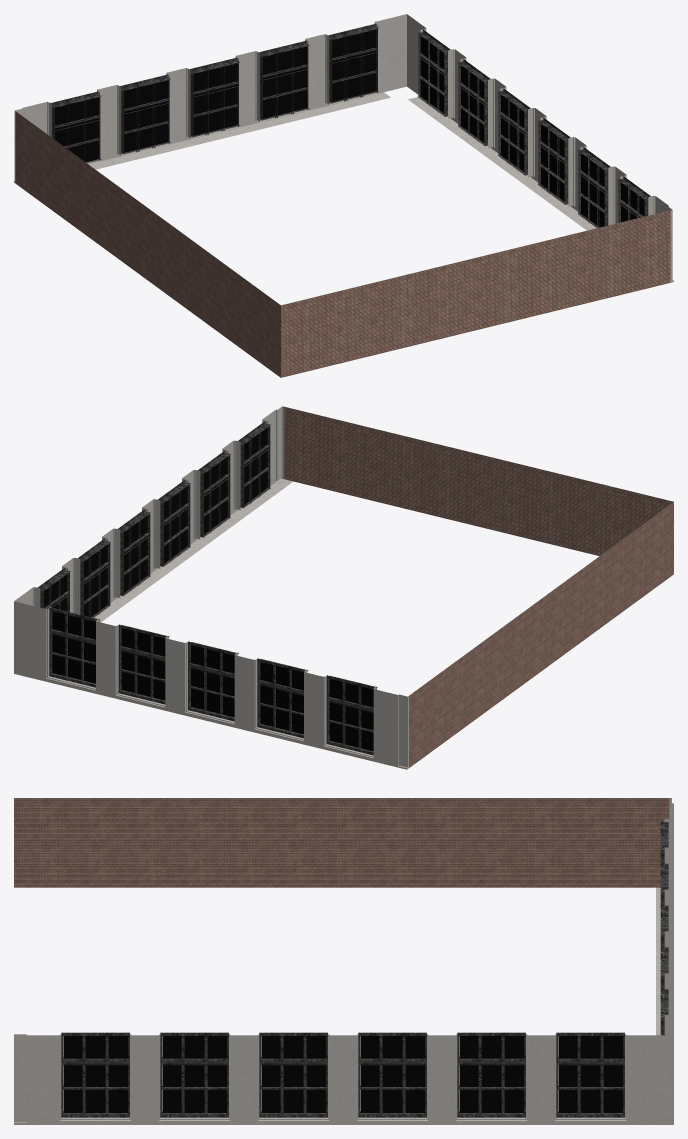
Rendered from BuildingC_Mid_Shell_VarA.fbx.
3 views of the same model, one above another, from view 1: azimuth 30°, elevation 25°; view 2: azimuth 150°, elevation 25°; view 3: azimuth 270°, elevation 25° (orthographic). The views are drawn at different scales.
Visible parts, largest first — view 1: BuildingC_Mid_Shell_VarA; view 2: BuildingC_Mid_Shell_VarA; view 3: BuildingC_Mid_Shell_VarA.
Boxes of the visible parts, x1,y1,x2,y2 form: BuildingC_Mid_Shell_VarA: (14,14,673,377); BuildingC_Mid_Shell_VarA: (14,406,673,769); BuildingC_Mid_Shell_VarA: (14,798,673,1124).
Size of the model in its own units: 1700 by 300 by 2000.
